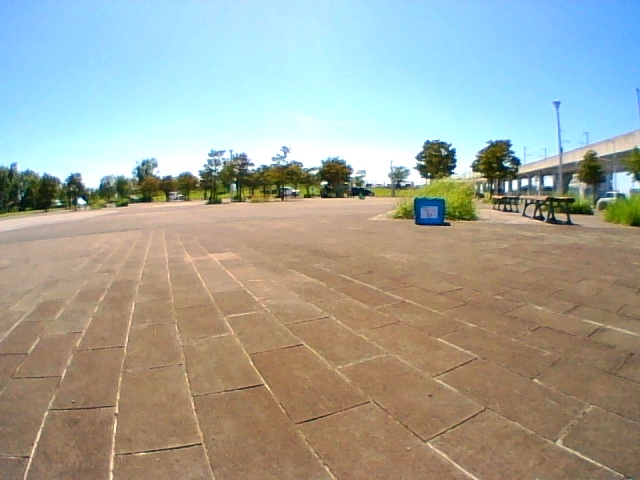blue_box: (415, 198, 444, 224)
tag: (420, 206, 437, 218)
